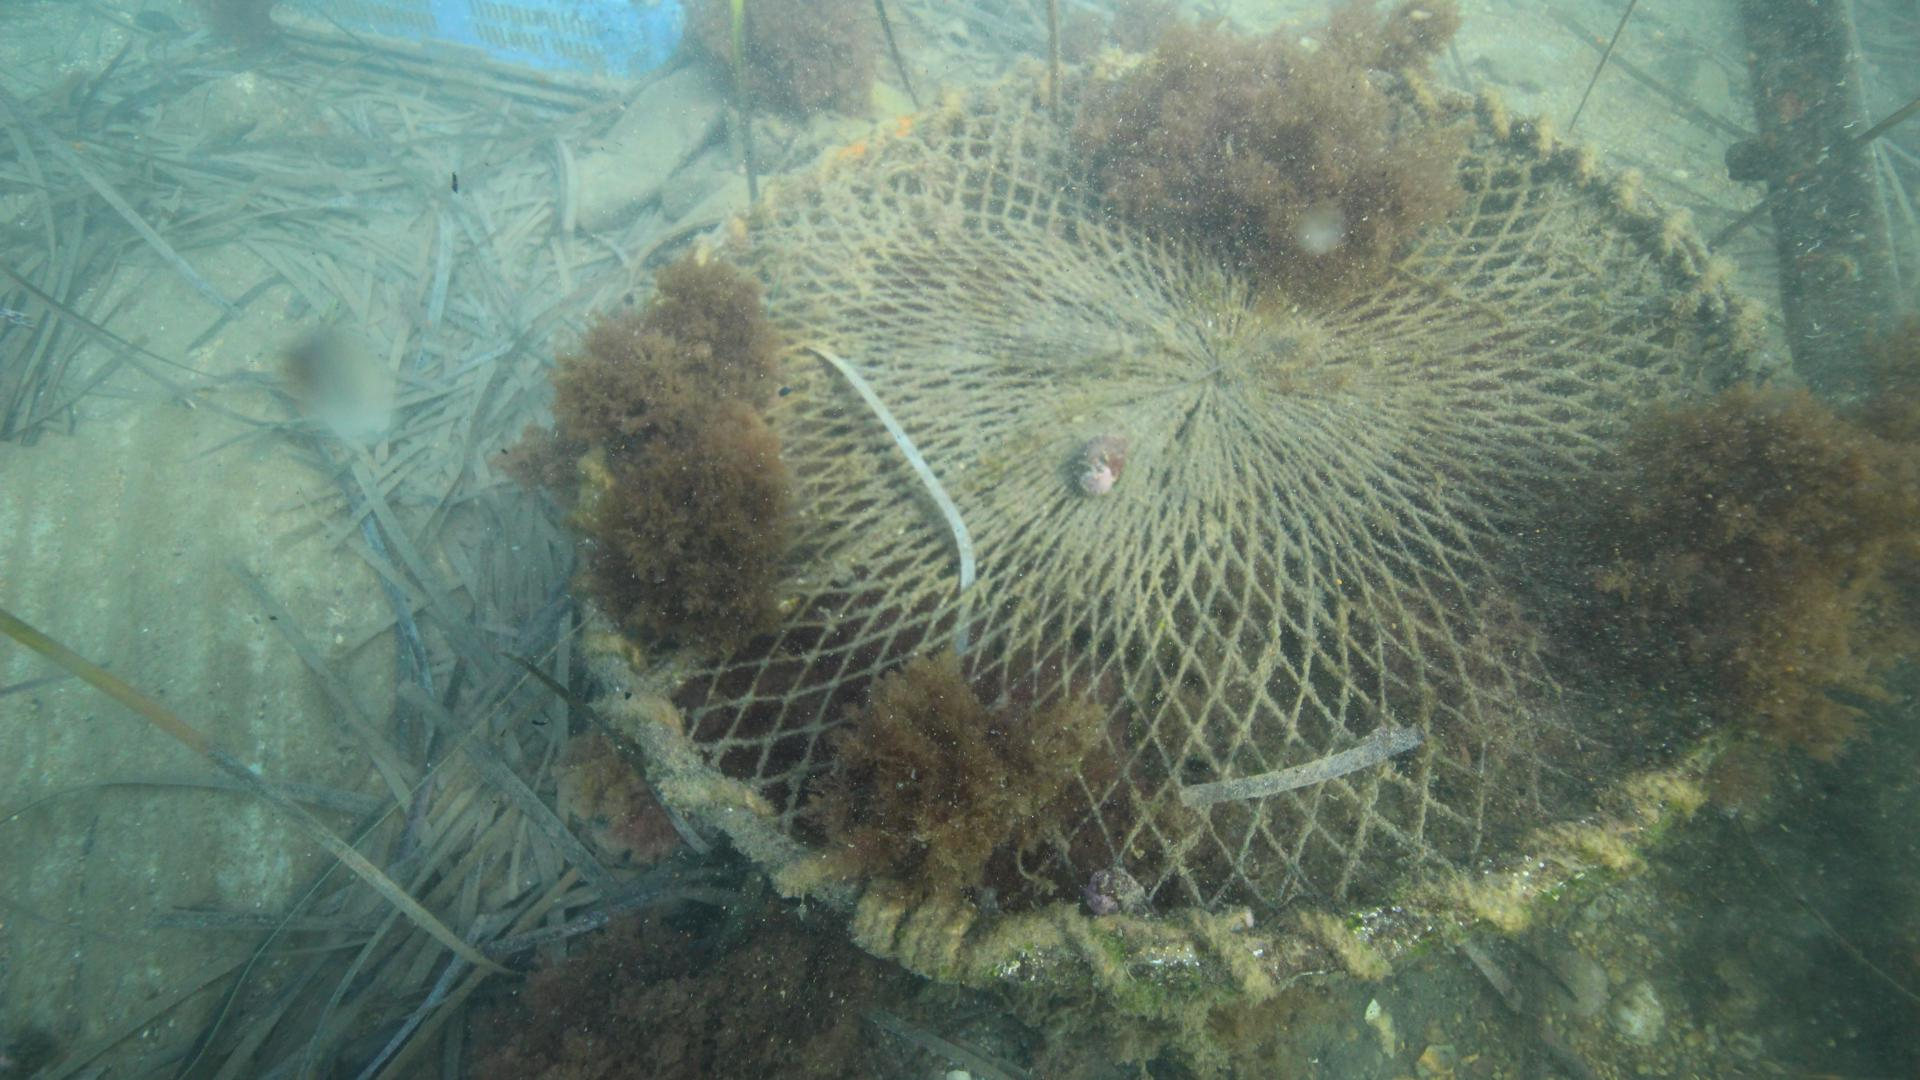circular fish trap: (564, 40, 1793, 998)
